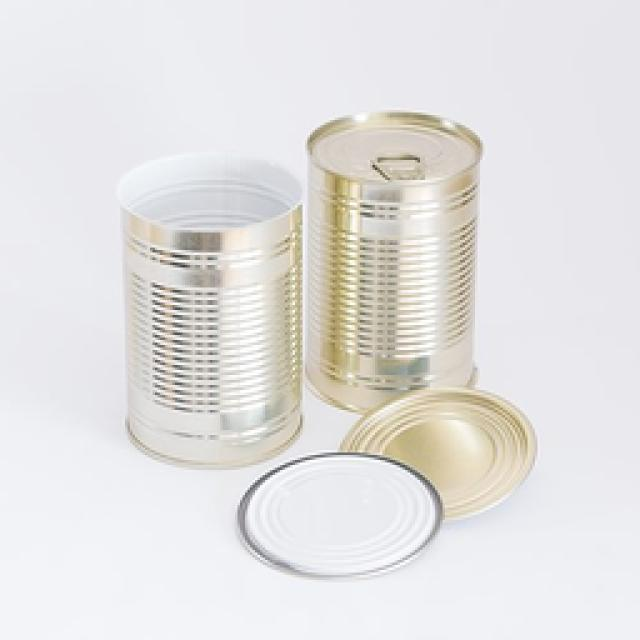alumunium: (120, 112, 535, 518)
